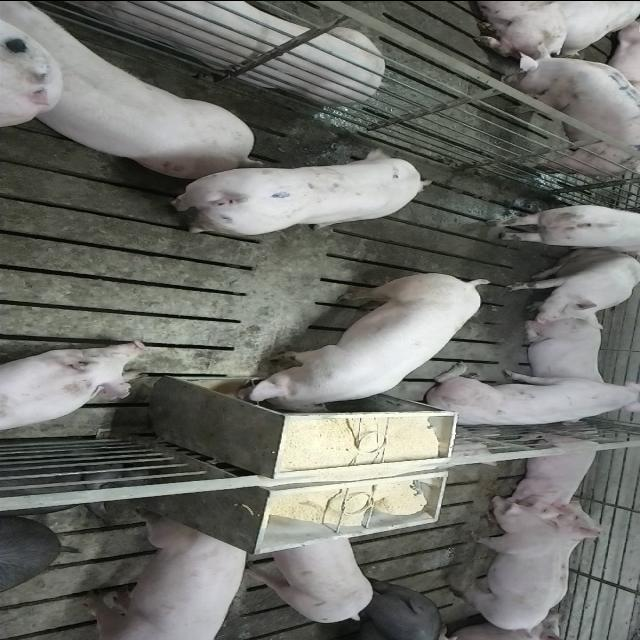Feeding: (237, 275, 492, 419)
Sitting: (420, 368, 636, 428), (503, 249, 639, 322)
Standing: (163, 145, 435, 235), (79, 514, 254, 639), (503, 50, 640, 178), (443, 493, 565, 632), (240, 533, 374, 623), (480, 202, 638, 254), (327, 582, 450, 640)
Sternal_lying: (57, 0, 390, 102), (0, 338, 149, 434), (500, 425, 610, 514), (519, 308, 607, 391)
